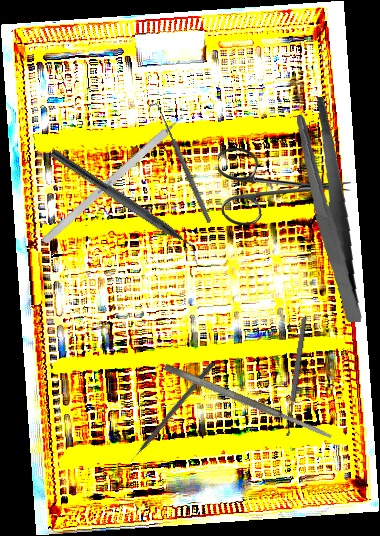Chopper: (43, 148, 208, 267)
Dressing Forceps: (283, 95, 377, 323)
Hook Surgical: (41, 101, 199, 246), (148, 100, 214, 226)
Iris Scissors: (217, 145, 352, 226)
Pusher: (122, 361, 215, 470)
Spatula Surgical: (163, 362, 333, 442)
Surgical Spoon: (284, 316, 308, 437)
